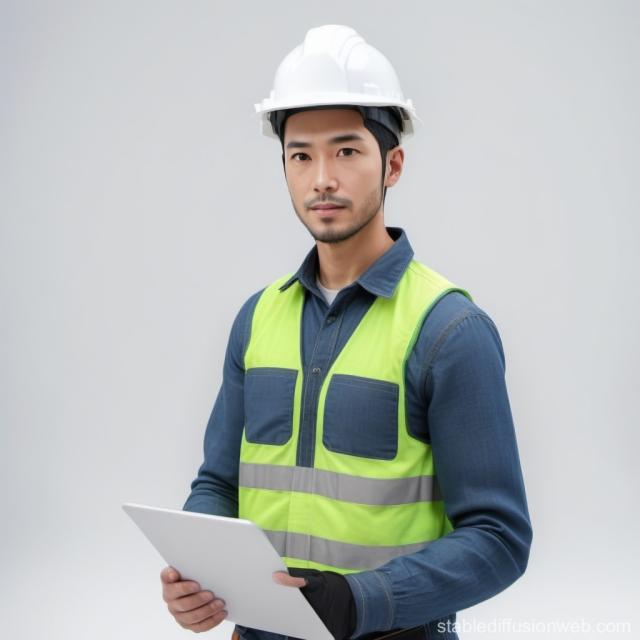helmet: (251, 24, 424, 138)
vest: (238, 263, 475, 567)
